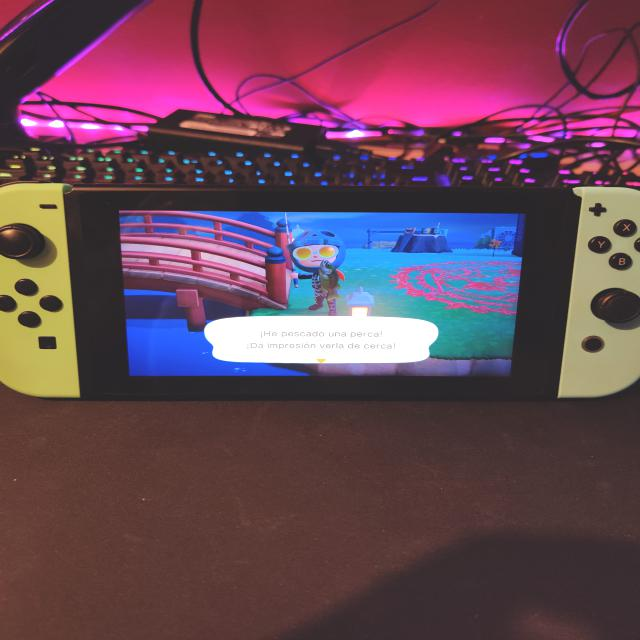text_bubble: (203, 316, 441, 365)
